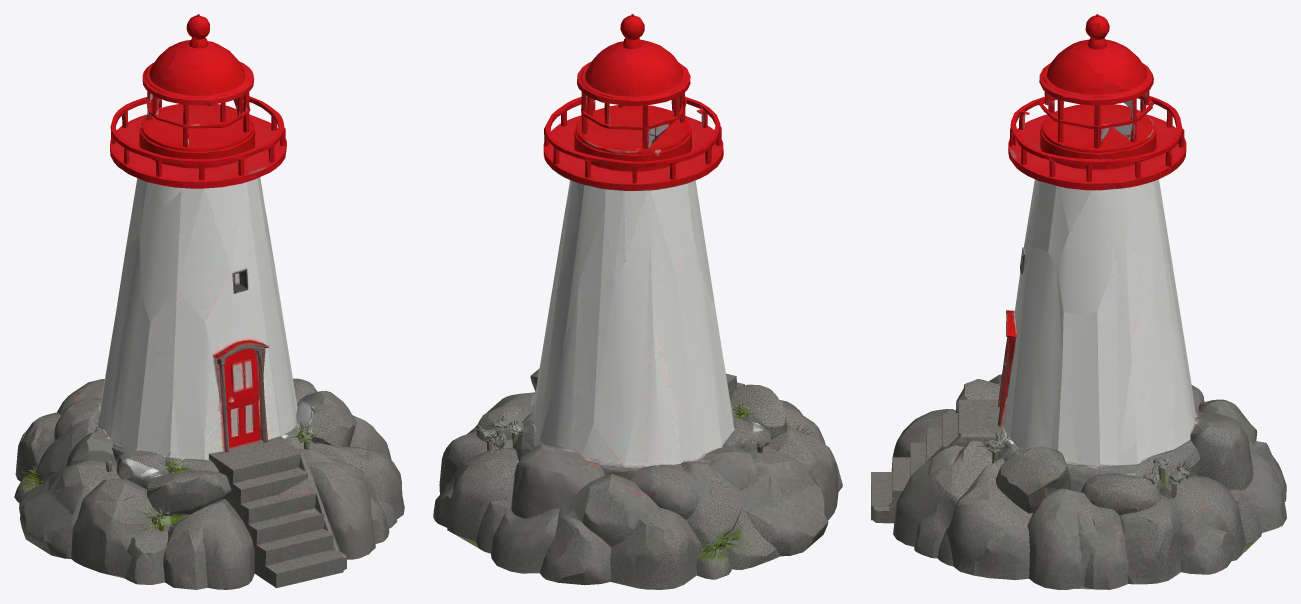
File: lighthouse.glb
3 renders of one model, left to right at view 1: azimuth 30°, elevation 25°; view 2: azimuth 150°, elevation 25°; view 3: azimuth 270°, elevation 25°, orthographic.
Size of the model in its own units: 1.42 by 1.9 by 1.46.
1 material, 1 textured.
